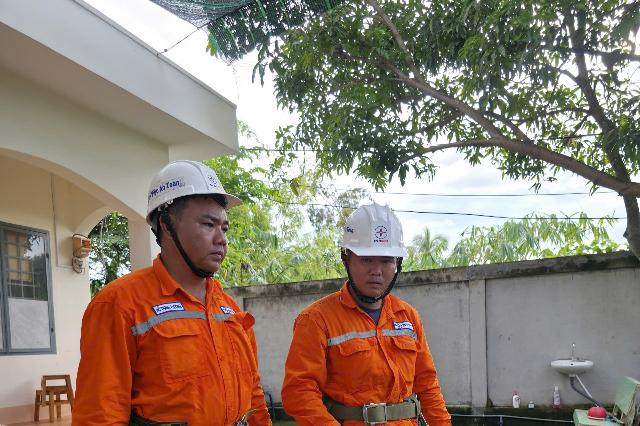harness: (310, 385, 436, 426)
helmet: (323, 196, 422, 273), (131, 156, 243, 222)
